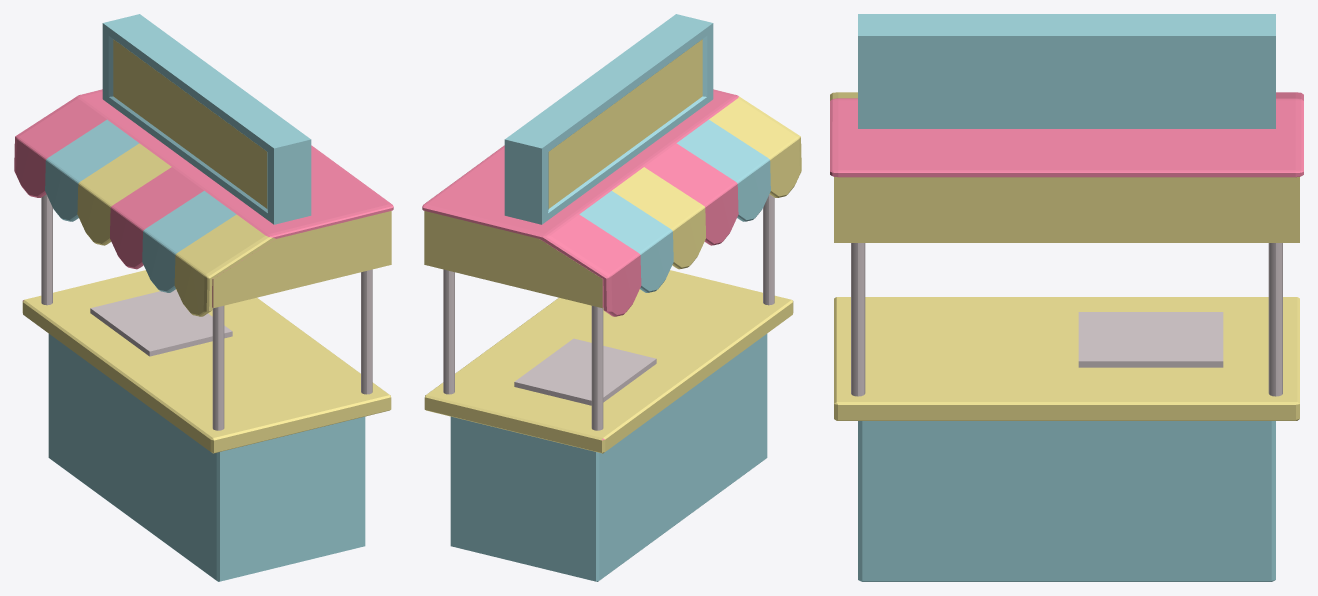
The model's file is toldo_uvs.fbx.
3 views of the same model, side by side, from view 1: azimuth 30°, elevation 25°; view 2: azimuth 150°, elevation 25°; view 3: azimuth 270°, elevation 25° (orthographic). The views are drawn at different scales.
Visible parts, largest first — view 1: mesa.001; view 2: mesa.001; view 3: mesa.001.
Boxes of the visible parts, bbox=[...] form: mesa.001: bbox=[14, 14, 393, 581]; mesa.001: bbox=[422, 14, 801, 581]; mesa.001: bbox=[830, 14, 1303, 581].
Bounding box in the file's own units: 158 × 338 × 282.
